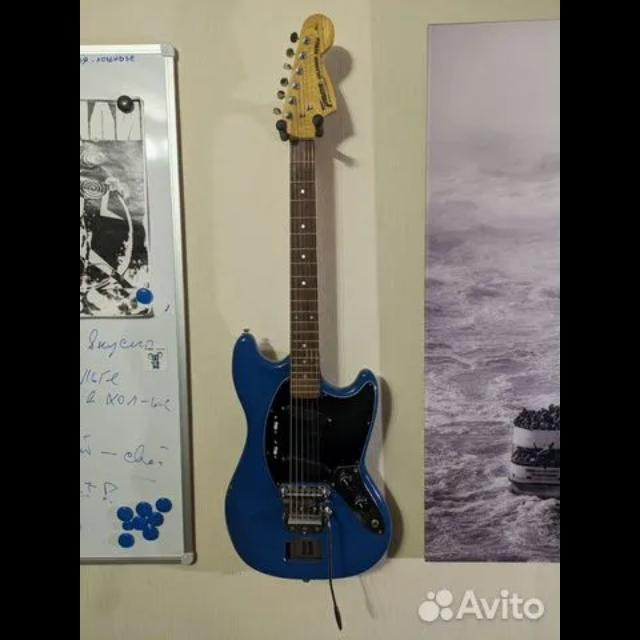Electric-Guitar: (225, 15, 391, 581)
